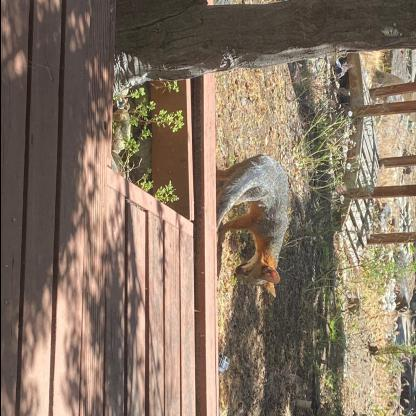zorro: (212, 152, 294, 302)
